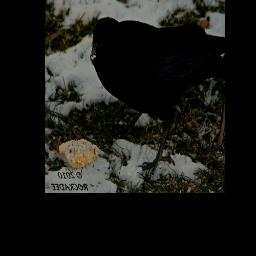Crow: (90, 16, 224, 175)
